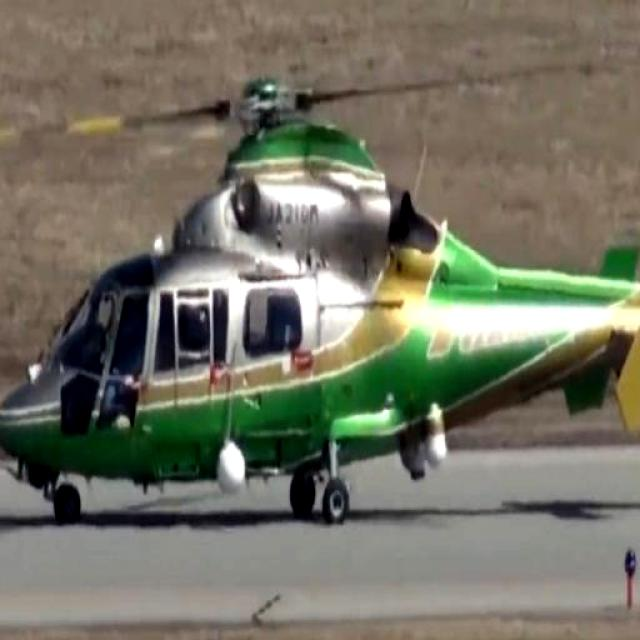drone: (0, 0, 640, 530)
